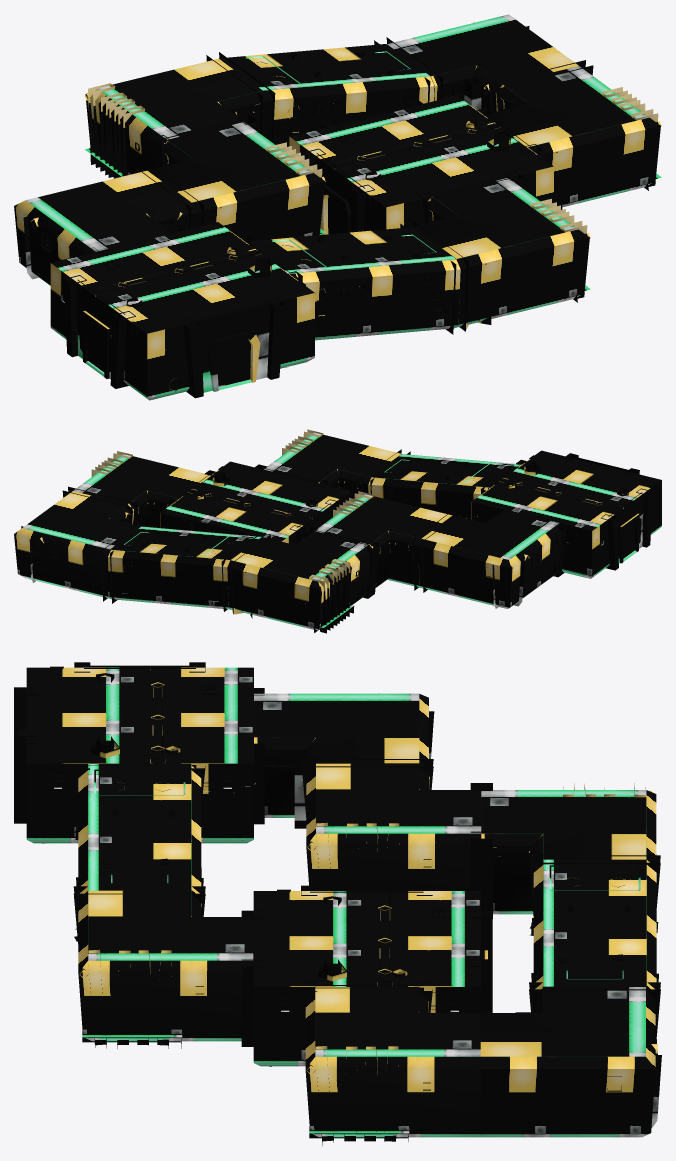
Rendered from Combined_Mesh_root_scene__4_e0ea2853__zombies2_diffuse_12_078cf75e_c1f257.obj.
3 views of the same model, one above another, from view 1: azimuth 30°, elevation 25°; view 2: azimuth 150°, elevation 25°; view 3: azimuth 270°, elevation 25° (orthographic). The views are drawn at different scales.
Size of the model in its own units: 76.84 by 12.64 by 57.04.
171 materials, 171 textured.
